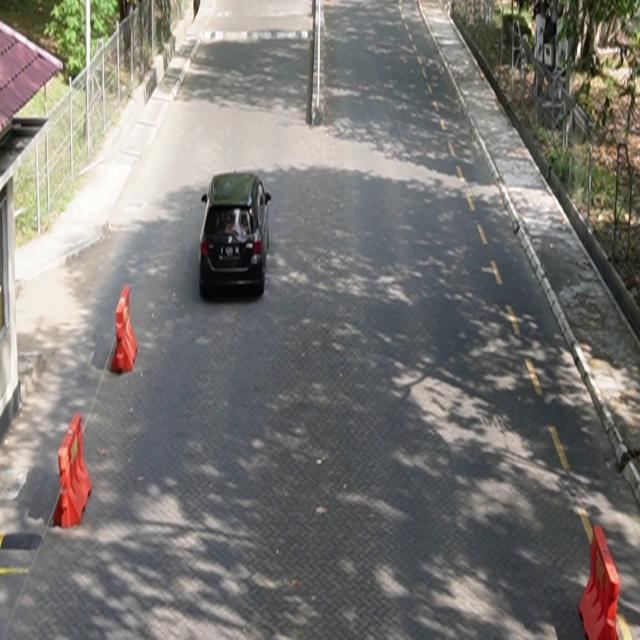car: (200, 171, 273, 300)
